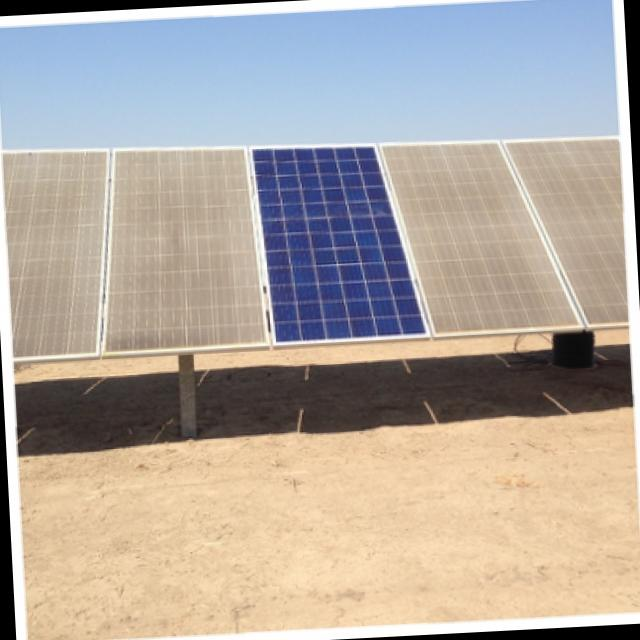faulty: (4, 152, 268, 360), (378, 140, 636, 336)
no faulty: (252, 142, 425, 340)
